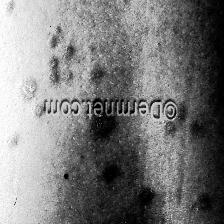Non-Cancerous Skin Condition: (12, 20, 105, 100), (96, 116, 111, 138), (138, 188, 152, 202), (104, 168, 113, 180)
